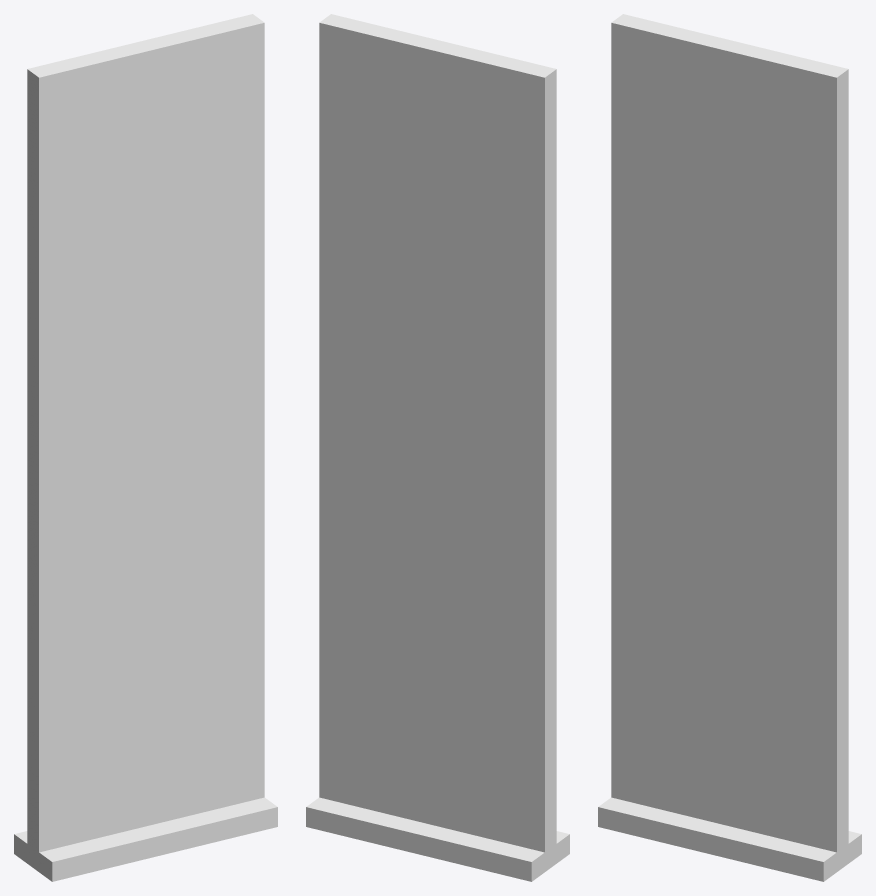
Rendered from 03_wall.FBX.
3 renders of one model, left to right at view 1: azimuth 30°, elevation 25°; view 2: azimuth 150°, elevation 25°; view 3: azimuth 330°, elevation 25°, orthographic.
Visible parts, largest first — view 1: 03_wall; view 2: 03_wall; view 3: 03_wall.
Boxes of the visible parts, x1,y1,x2,y2 form: 03_wall: (14,14,277,881); 03_wall: (306,14,569,881); 03_wall: (598,14,861,881).
Size of the model in its own units: 128 by 432 by 37.56.
1 material, 1 textured.
